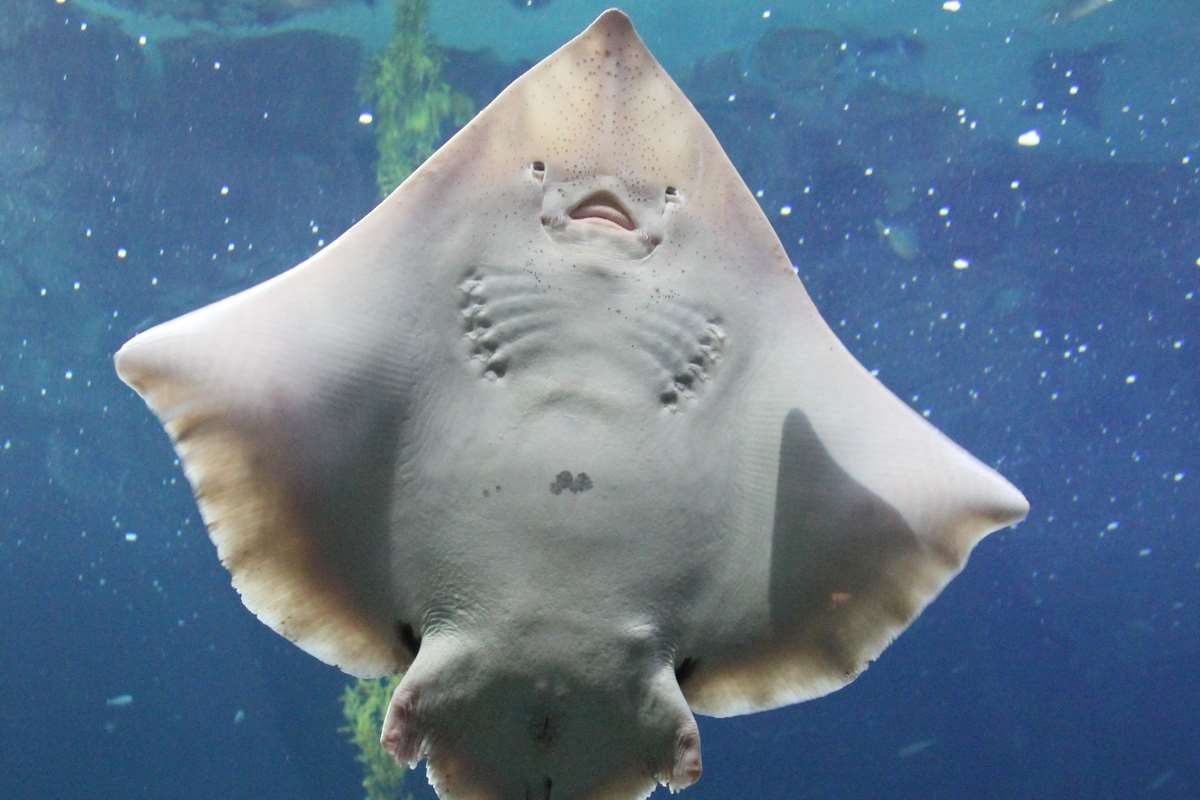Big Skate: (1, 11, 1118, 800)
